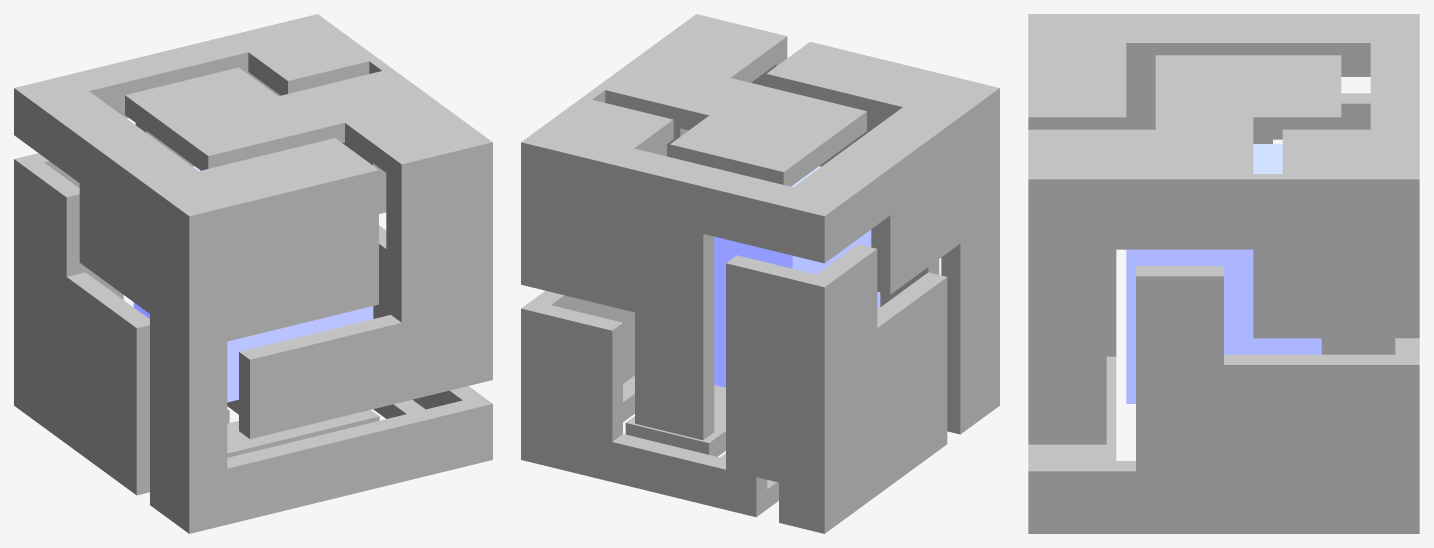
3 renders of one model, left to right at view 1: azimuth 30°, elevation 25°; view 2: azimuth 150°, elevation 25°; view 3: azimuth 270°, elevation 25°, orthographic. The views are drawn at different scales.
Parts seen in each view (by area): view 1: main, light; view 2: main, light; view 3: main, light.
Part boxes in pixels (box(x1,y1,x2,y2)): main: box(14, 14, 492, 533); light: box(133, 166, 373, 402); main: box(521, 14, 999, 533); light: box(714, 166, 880, 387); main: box(1028, 14, 1419, 533); light: box(1126, 144, 1321, 403).
Bounding box in the file's own units: 2 × 2 × 2.
